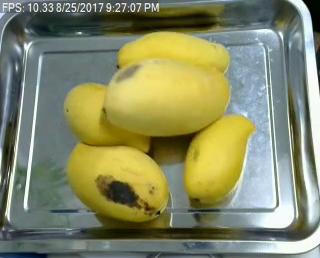Mango: (101, 60, 231, 137), (65, 142, 169, 223), (61, 81, 154, 153), (183, 113, 254, 203), (114, 31, 230, 77)
